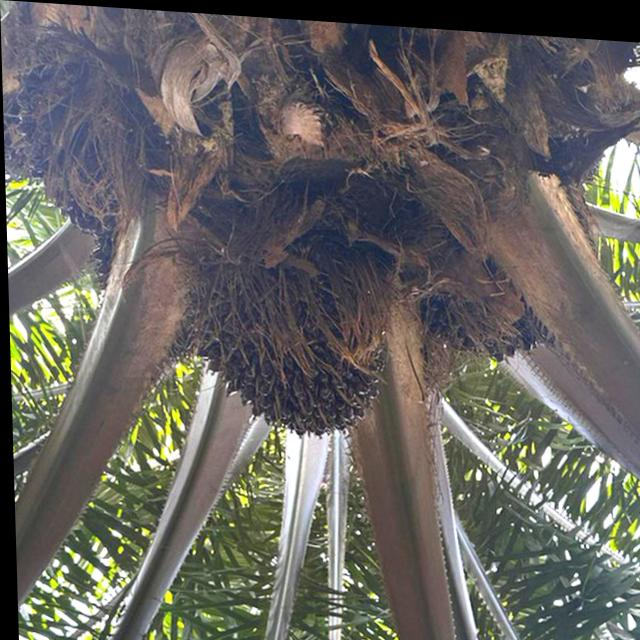almost: (186, 217, 393, 449), (10, 61, 177, 303), (427, 226, 586, 366)
